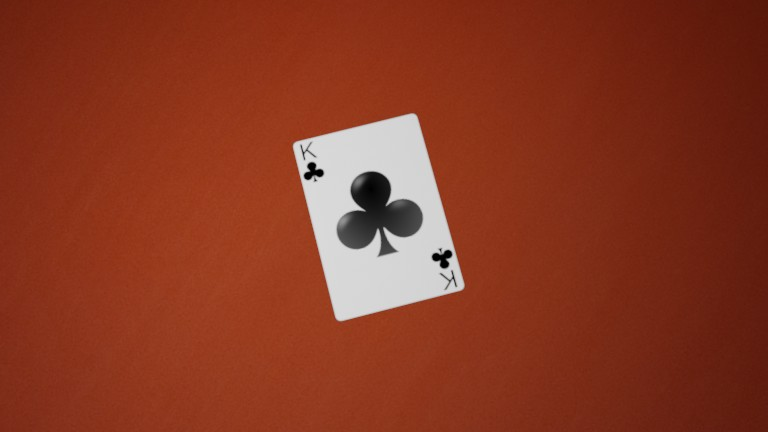king_of_clubs: (171, 98, 185, 117), (118, 56, 131, 74)
